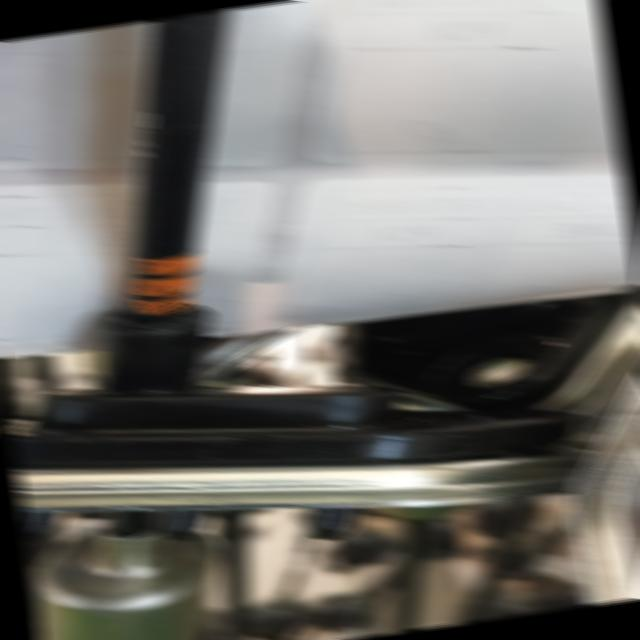orange: (122, 245, 201, 320)
